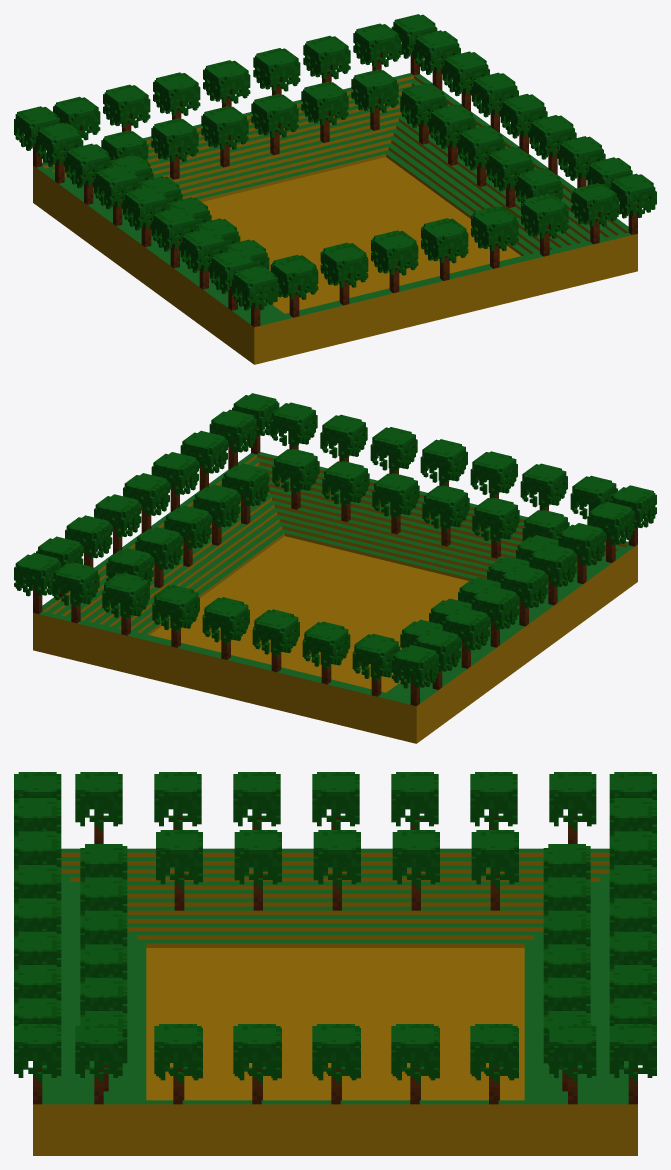
Rendered from field2.fbx.
3 views of the same model, one above another, from view 1: azimuth 30°, elevation 25°; view 2: azimuth 150°, elevation 25°; view 3: azimuth 270°, elevation 25° (orthographic). The views are drawn at different scales.
Parts seen in each view (by area): view 1: Cube, Mesh_3.004, Mesh_3, Mesh_3.002, Mesh_3.006, Mesh_3.001, Mesh_3.007, Mesh_3.003, Mesh_3.011, Mesh_3.010, Mesh_3.009, Mesh_3.008 (+1 smaller); view 2: Cube, Mesh_3, Mesh_3.004, Mesh_3.002, Mesh_3.006, Mesh_3.005, Mesh_3.007, Mesh_3.003, Mesh_3.009, Mesh_3.008, Mesh_3.011, Mesh_3.010 (+1 smaller); view 3: Cube, Mesh_3.006, Mesh_3.002, Mesh_3.003, Mesh_3.004, Mesh_3, Mesh_3.001, Mesh_3.005, Mesh_3.010, Mesh_3.008, Mesh_3.007, Mesh_3.009 (+1 smaller).
Part boxes in pixels (x1,y1,x2,y2): Cube: (33, 73, 637, 364); Mesh_3.004: (271, 183, 618, 317); Mesh_3: (53, 23, 400, 140); Mesh_3.002: (36, 122, 254, 310); Mesh_3.006: (413, 30, 632, 214); Mesh_3.001: (101, 69, 398, 179); Mesh_3.007: (400, 83, 562, 207); Mesh_3.003: (111, 155, 269, 295); Mesh_3.011: (232, 266, 279, 327); Mesh_3.010: (609, 173, 656, 234); Mesh_3.009: (14, 106, 59, 167); Mesh_3.008: (391, 14, 437, 75); Cube: (33, 452, 637, 743); Mesh_3: (52, 562, 399, 696); Mesh_3.004: (270, 402, 617, 519); Mesh_3.002: (413, 501, 634, 689); Mesh_3.006: (36, 409, 256, 597); Mesh_3.005: (272, 448, 569, 558); Mesh_3.007: (106, 463, 269, 587); Mesh_3.003: (400, 535, 558, 649); Mesh_3.009: (391, 645, 438, 706); Mesh_3.008: (14, 552, 61, 613); Mesh_3.011: (609, 485, 656, 546); Mesh_3.010: (232, 393, 279, 454); Cube: (33, 848, 637, 1155); Mesh_3.006: (75, 1024, 596, 1104); Mesh_3.002: (75, 772, 596, 843); Mesh_3.003: (156, 830, 518, 910); Mesh_3.004: (14, 798, 61, 1025); Mesh_3: (609, 798, 656, 1025); Mesh_3.001: (543, 844, 590, 1091); Mesh_3.005: (80, 844, 127, 1091); Mesh_3.010: (14, 1024, 61, 1104); Mesh_3.008: (609, 1024, 656, 1104); Mesh_3.007: (156, 1028, 518, 1100); Mesh_3.009: (609, 772, 656, 801).
Size of the model in its own units: 136 by 29 by 136.
